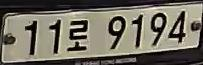1: (22, 18, 41, 56), (130, 12, 148, 51), (47, 16, 63, 56)
4: (168, 9, 189, 46)
9: (104, 12, 128, 50), (147, 11, 167, 48)
로: (67, 17, 89, 53)
